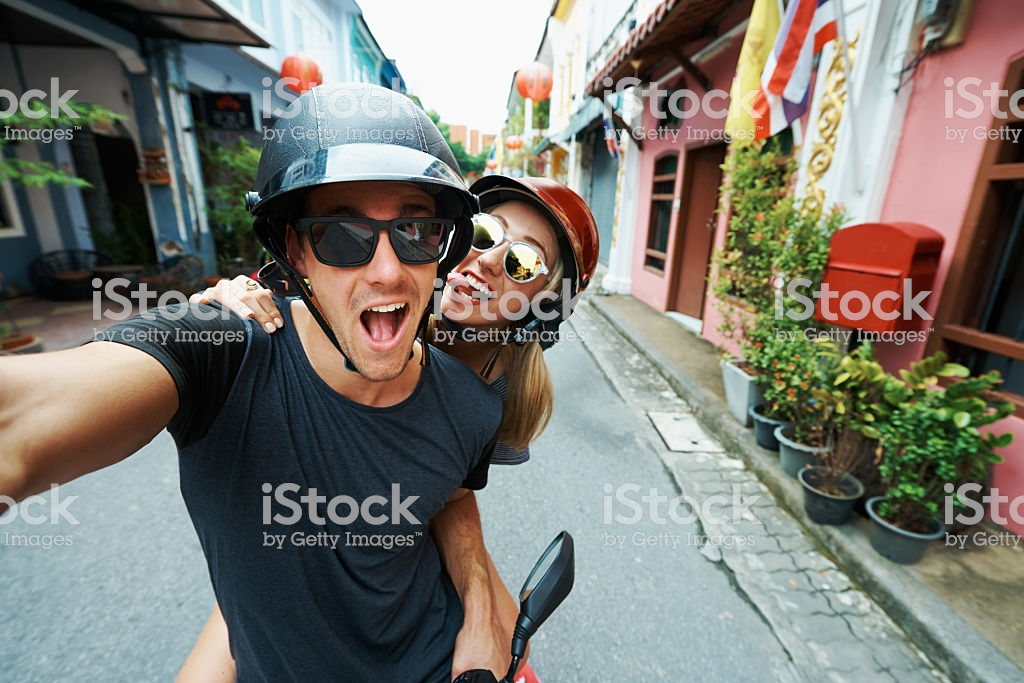helmet: (242, 80, 457, 205), (479, 162, 598, 275)
